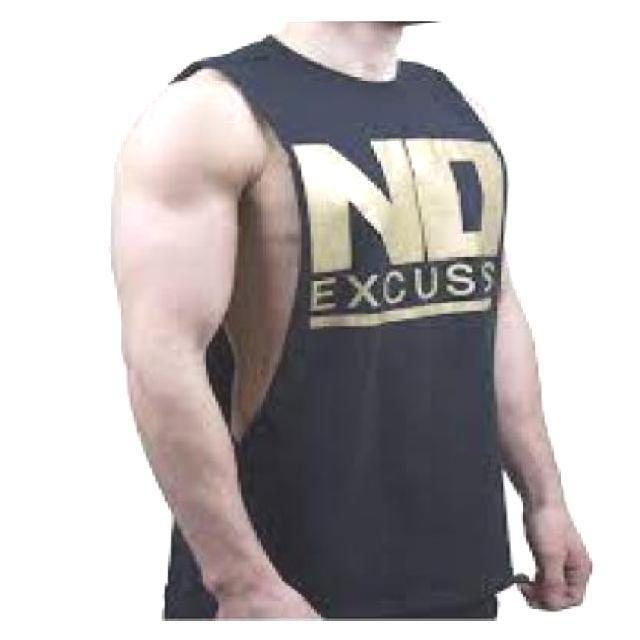no_vest: (161, 32, 516, 612)
